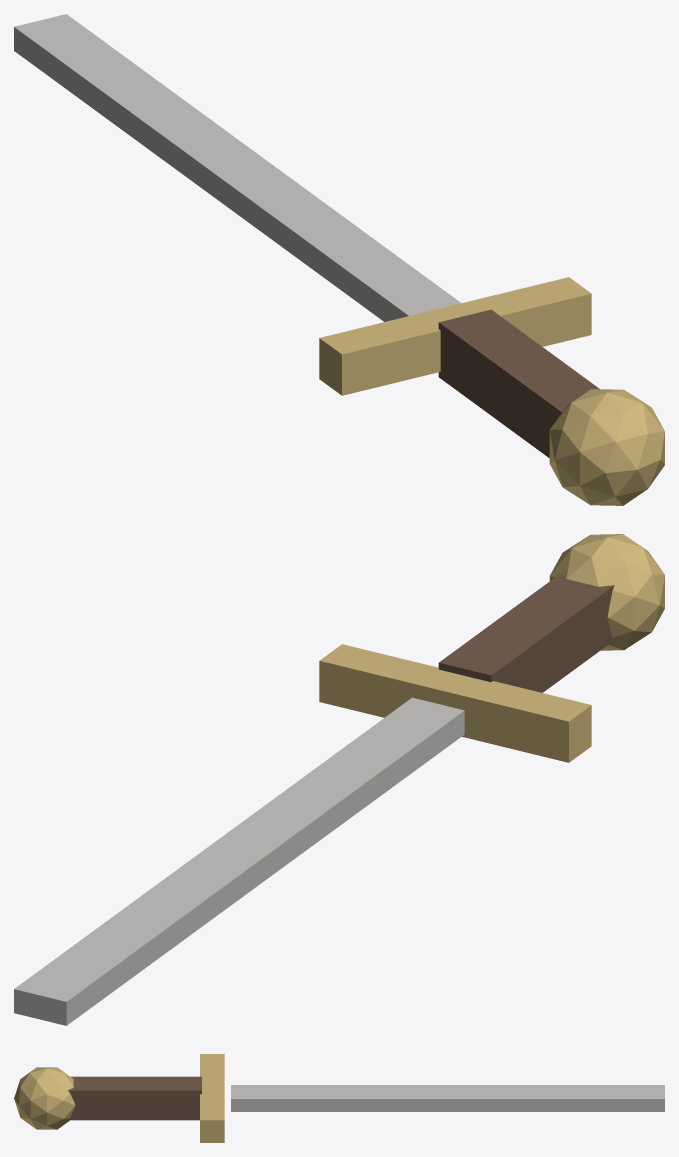
Rendered from sword_silver_simple.glb.
3 views of the same model, one above another, from view 1: azimuth 30°, elevation 25°; view 2: azimuth 150°, elevation 25°; view 3: azimuth 270°, elevation 25° (orthographic). The views are drawn at different scales.
Parts seen in each view (by area): view 1: sword_blade, sword_guard, sword_handle, sword_pommel; view 2: sword_blade, sword_guard, sword_handle, sword_pommel; view 3: sword_blade, sword_handle, sword_pommel, sword_guard.
Part boxes in pixels (x1,y1,x2,y2): sword_blade: (14,14,461,321); sword_guard: (319,277,591,395); sword_handle: (438,309,599,457); sword_pommel: (549,389,664,505); sword_blade: (14,697,464,1025); sword_guard: (319,644,591,762); sword_handle: (438,572,614,692); sword_pommel: (549,534,664,650); sword_blade: (231,1085,664,1111); sword_handle: (68,1076,201,1120); sword_pommel: (14,1067,75,1129); sword_guard: (200,1054,224,1142).
Size of the model in its own units: 0.38 by 0.16 by 1.57.
